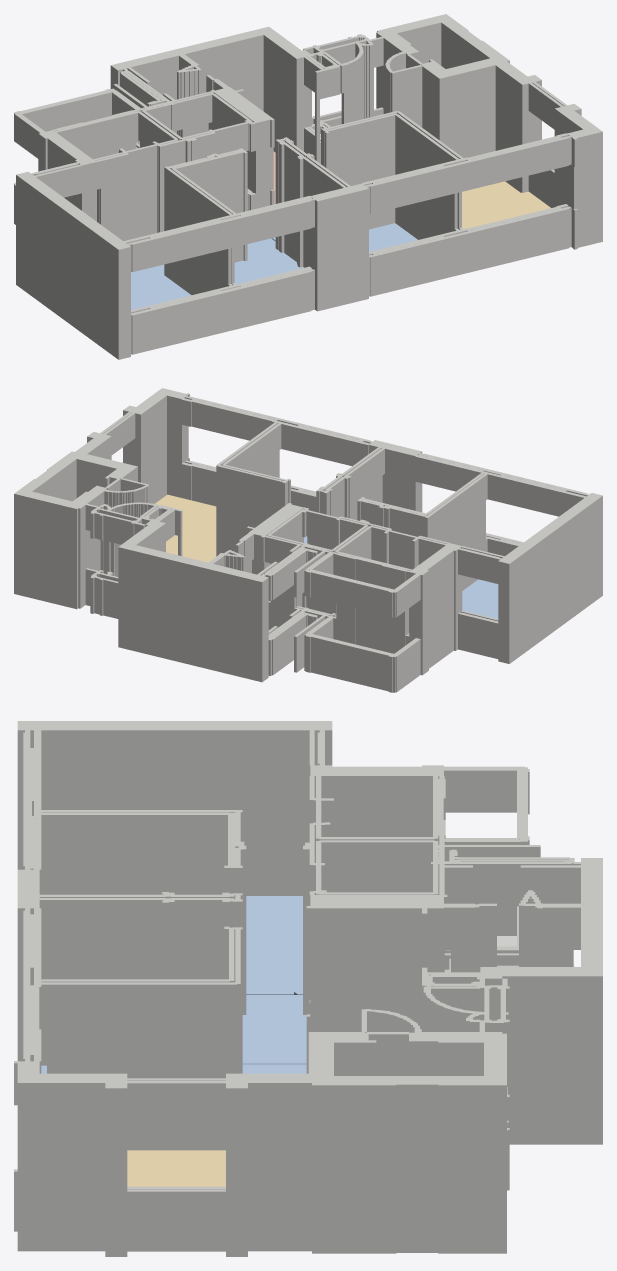
3 renders of one model, top to bottom at view 1: azimuth 30°, elevation 25°; view 2: azimuth 150°, elevation 25°; view 3: azimuth 270°, elevation 25°, orthographic. The views are drawn at different scales.
Parts seen in each view (by area): view 1: walls, room:living:9, room:bedroom:7, room:bedroom:3, room:bedroom:8; view 2: walls, room:living:9, room:bedroom:3; view 3: walls, room:bedroom:3, room:bedroom:7, room:living:9, room:bedroom:8.
Boxes of the visible parts, x1,y1,x2,y2 form: walls: (14,14,602,359); room:living:9: (462,181,550,228); room:bedroom:7: (234,238,303,284); room:bedroom:3: (131,264,191,309); room:bedroom:8: (271,223,417,251); walls: (14,388,602,692); room:living:9: (155,494,216,562); room:bedroom:3: (462,579,498,618); walls: (14,721,602,1256); room:bedroom:3: (246,896,302,994); room:bedroom:7: (242,995,306,1064); room:living:9: (127,1150,225,1186); room:bedroom:8: (41,1064,306,1073).
Size of the model in its own units: 13.09 by 2.8 by 8.87.
